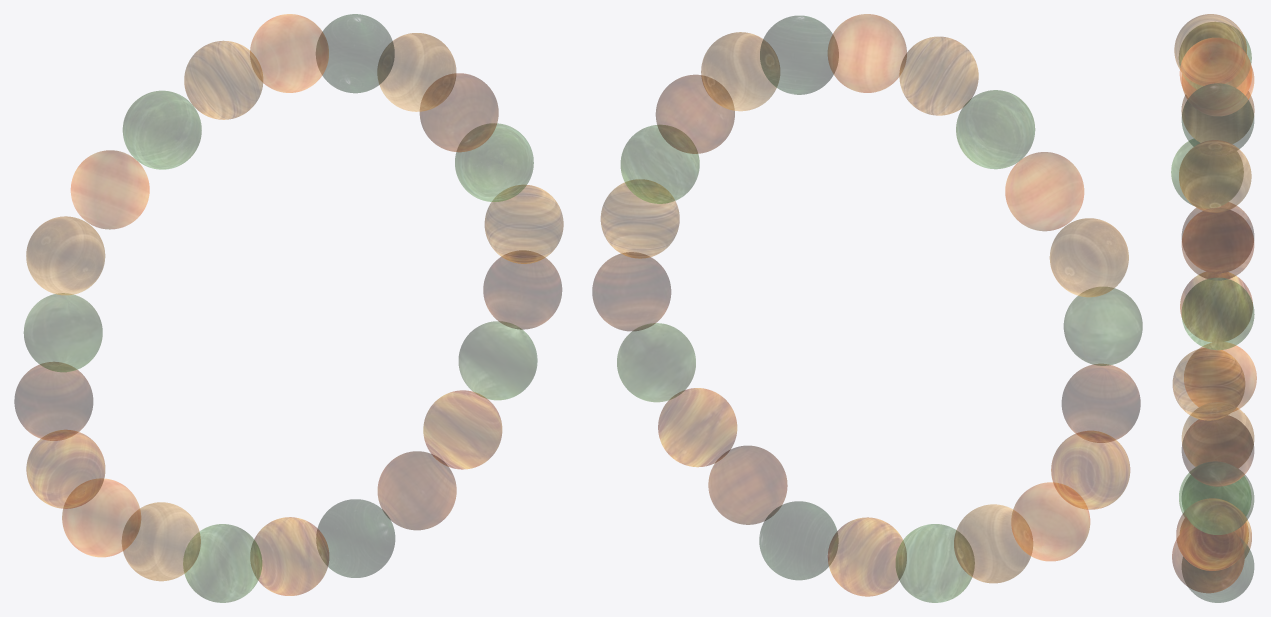
Rendered from bracelet2.glb.
3 views of the same model, side by side, from view 1: azimuth 30°, elevation 25°; view 2: azimuth 150°, elevation 25°; view 3: azimuth 270°, elevation 25° (orthographic). The views are drawn at different scales.
Parts seen in each view (by area): view 1: 13091_round_bead_bracelet_v1_l2; view 2: 13091_round_bead_bracelet_v1_l2; view 3: 13091_round_bead_bracelet_v1_l2.
Part boxes in pixels (bbox=[...]): 13091_round_bead_bracelet_v1_l2: bbox=[14, 14, 563, 602]; 13091_round_bead_bracelet_v1_l2: bbox=[592, 14, 1142, 602]; 13091_round_bead_bracelet_v1_l2: bbox=[1171, 14, 1256, 602].
Size of the model in its own units: 3.03 by 3.09 by 0.4546.
Materials: 21 (21 with a texture image).
